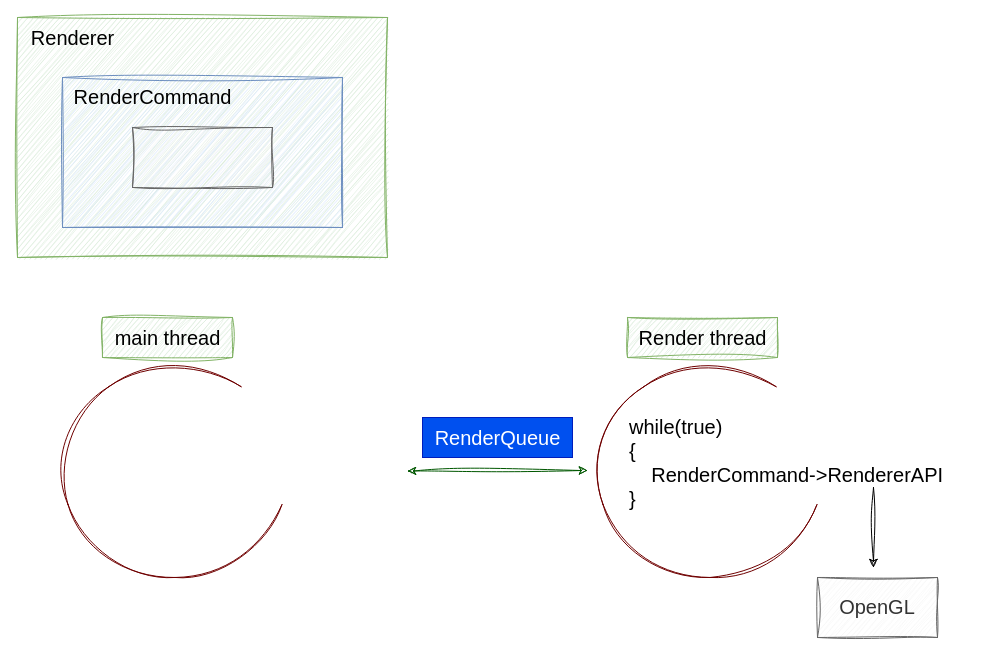
Image size: 985x655. Some labels were removed from this diagram. Here are the shapes that lost their labels. From the top down, the centre of each, then its label:
At point (202, 157): "RendererAPI".
At point (175, 472): "while(true) { Renderer->RenderCommand }".
